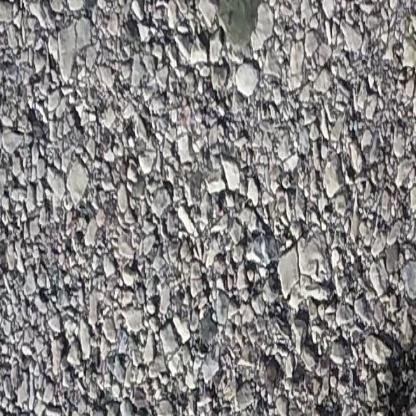Cracks: (371, 289, 416, 416)
